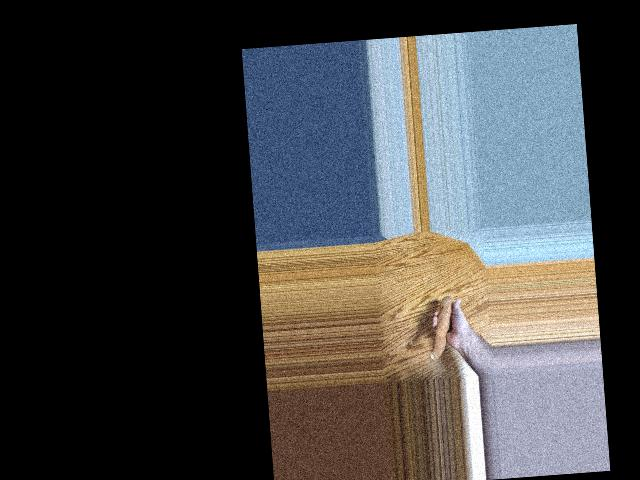sweet_potato: (435, 294, 456, 359)
